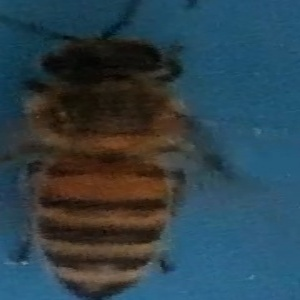bee: (7, 17, 215, 300)
